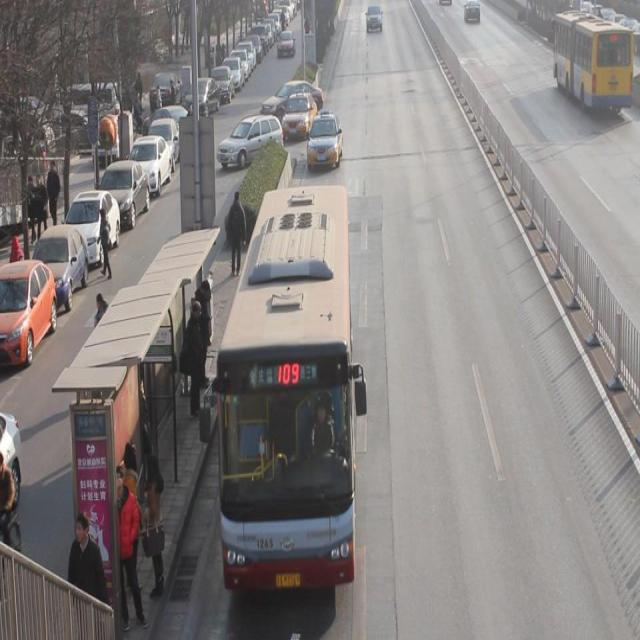car: (263, 80, 323, 125), (307, 111, 343, 171), (284, 93, 318, 140)
van: (218, 186, 352, 583), (553, 12, 630, 117)
